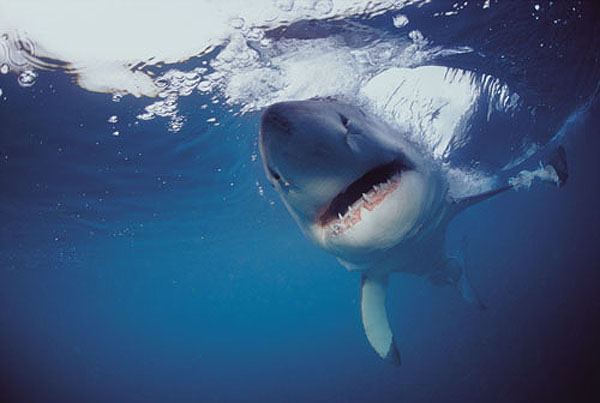Carcharodon_carcharias: (228, 72, 557, 368)
